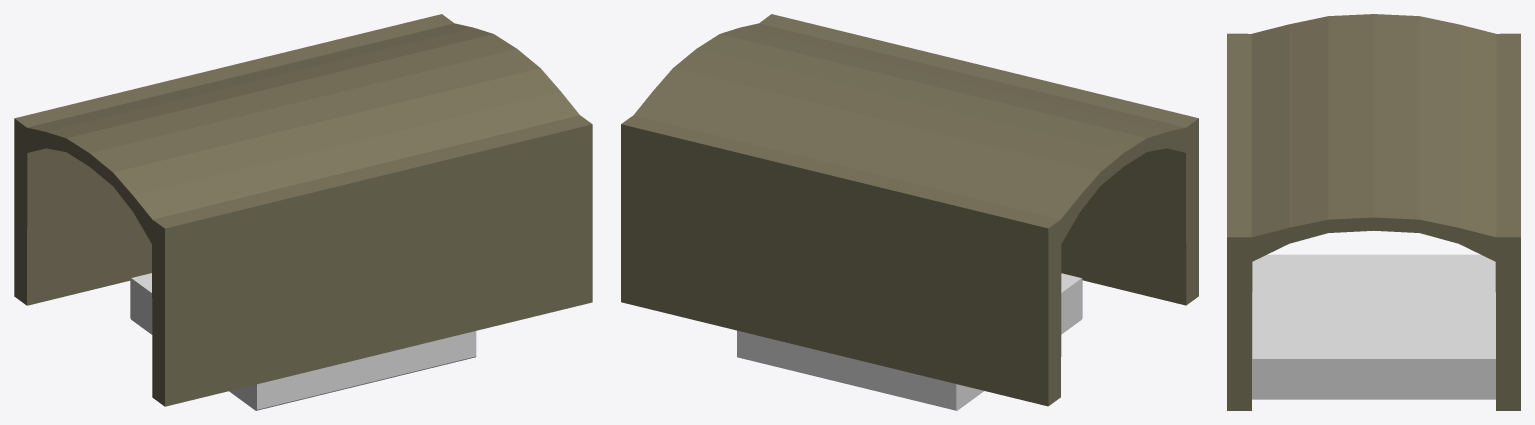
File: LV2_Tunnel.fbx
The picture shows the model from 3 angles, left to right: view 1: azimuth 30°, elevation 25°; view 2: azimuth 150°, elevation 25°; view 3: azimuth 270°, elevation 25°; orthographic projection. The views are drawn at different scales.
Parts seen in each view (by area): view 1: Right_PBase, Ground; view 2: Right_PBase, Ground; view 3: Right_PBase, Ground.
Boxes of the visible parts, bbox=[...] form: Right_PBase: bbox=[14, 14, 592, 406]; Ground: bbox=[130, 273, 476, 410]; Right_PBase: bbox=[621, 14, 1198, 406]; Ground: bbox=[737, 273, 1082, 410]; Right_PBase: bbox=[1227, 14, 1520, 410]; Ground: bbox=[1252, 254, 1495, 399].
Bounding box in the file's own units: 585 × 310 × 357.
